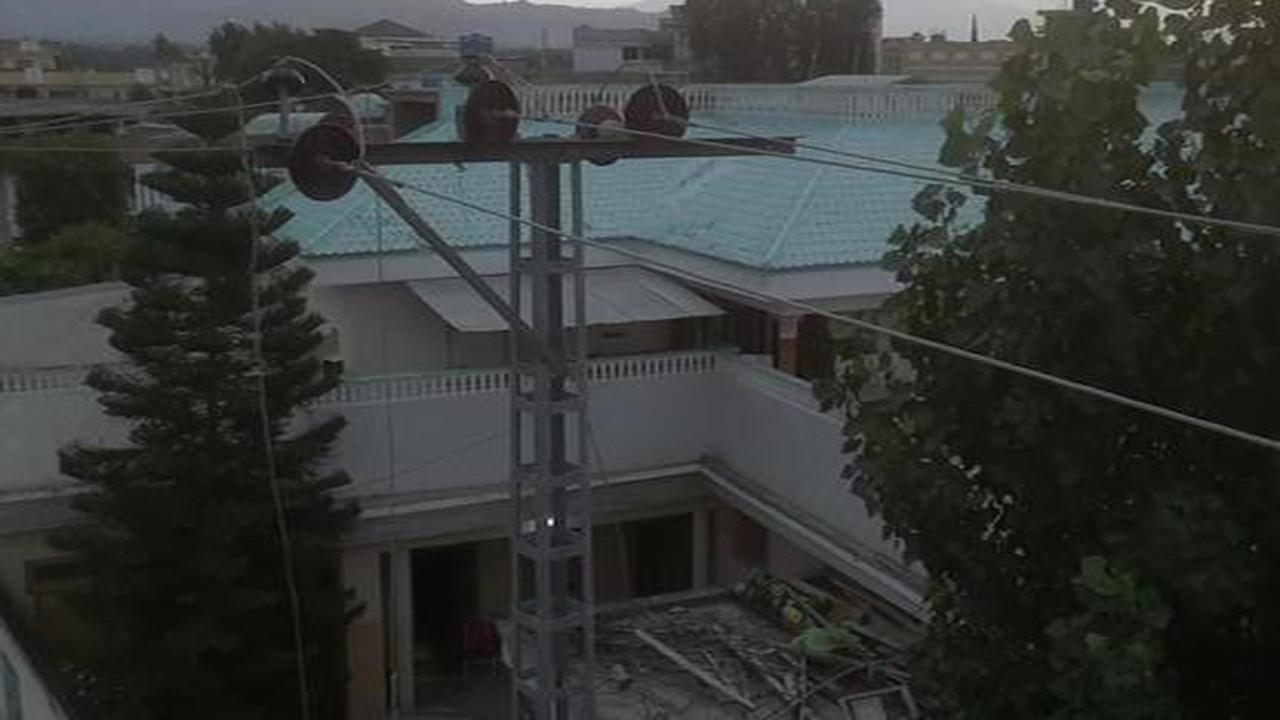insulator_disc: (287, 121, 364, 203), (618, 74, 695, 151), (460, 74, 525, 150)
insulator_pin: (256, 52, 311, 97)
